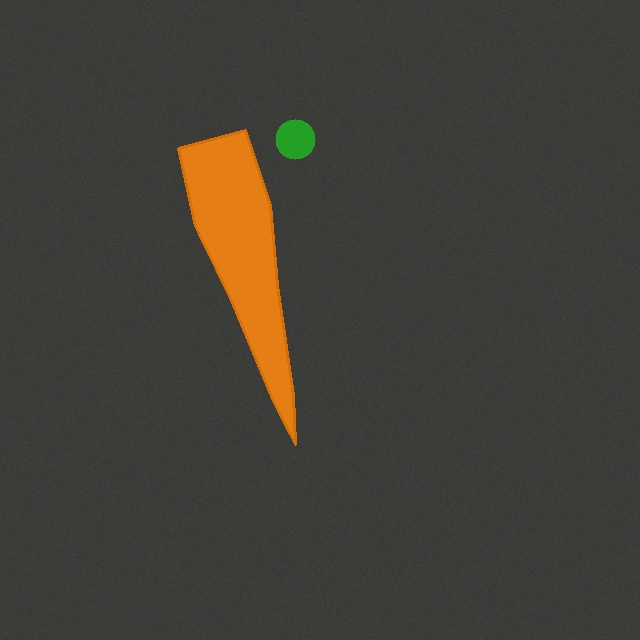Good_Carrot: (170, 122, 303, 452)
